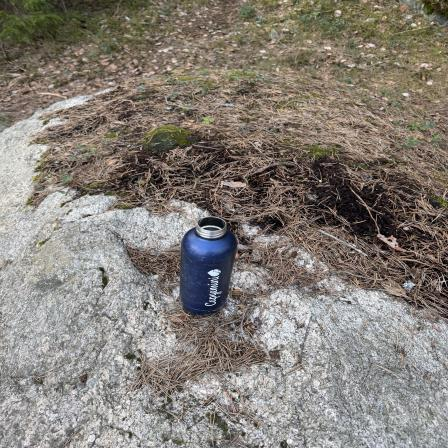blue_bottle: (178, 218, 240, 314)
